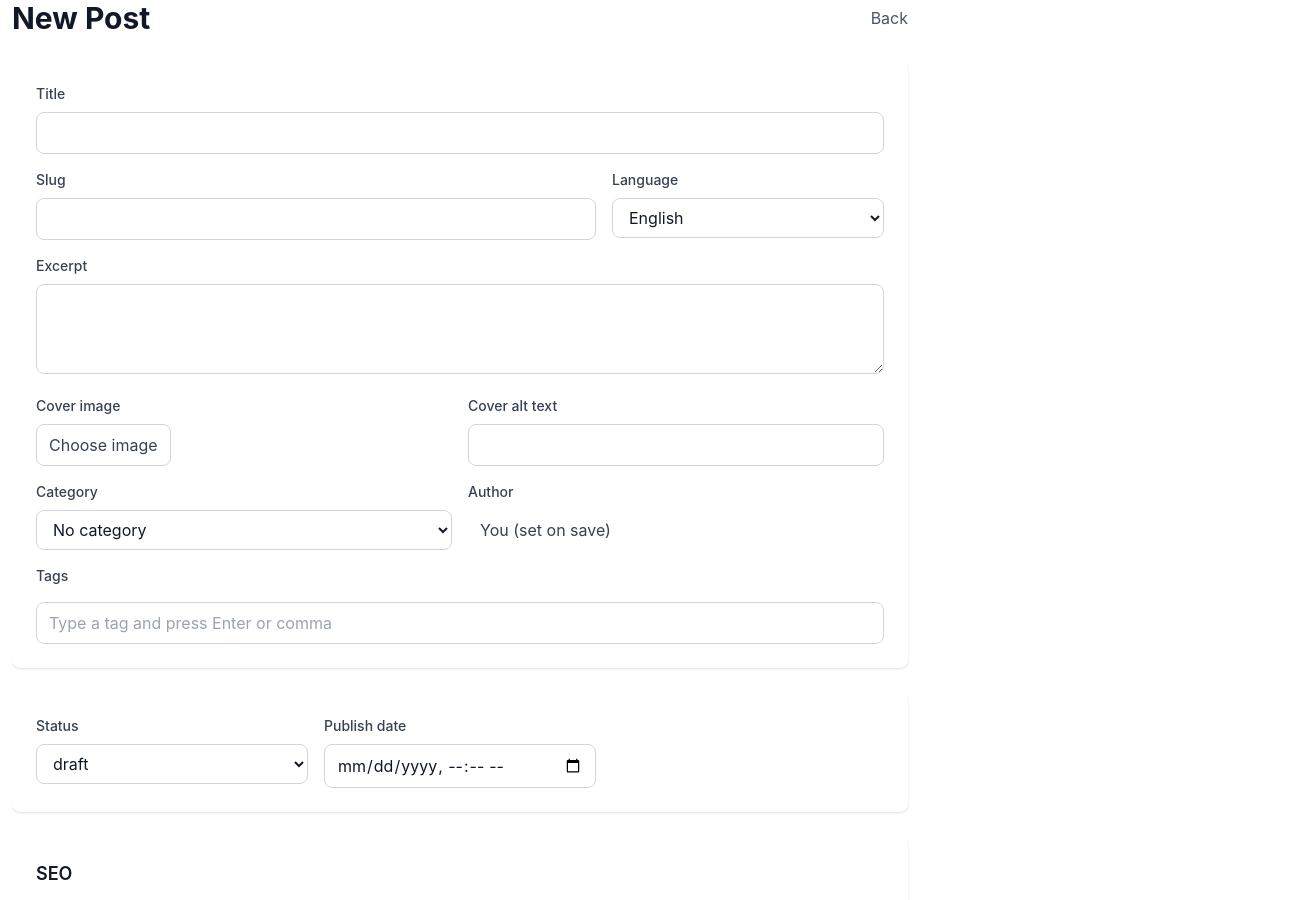
Test case: PostForm › shows server errors such as a slug conflict
The image size is (1292, 900).
Type "T" into the field labelled "Title". click: (460, 133)
box: [36,112,884,154]
(page scrolled)
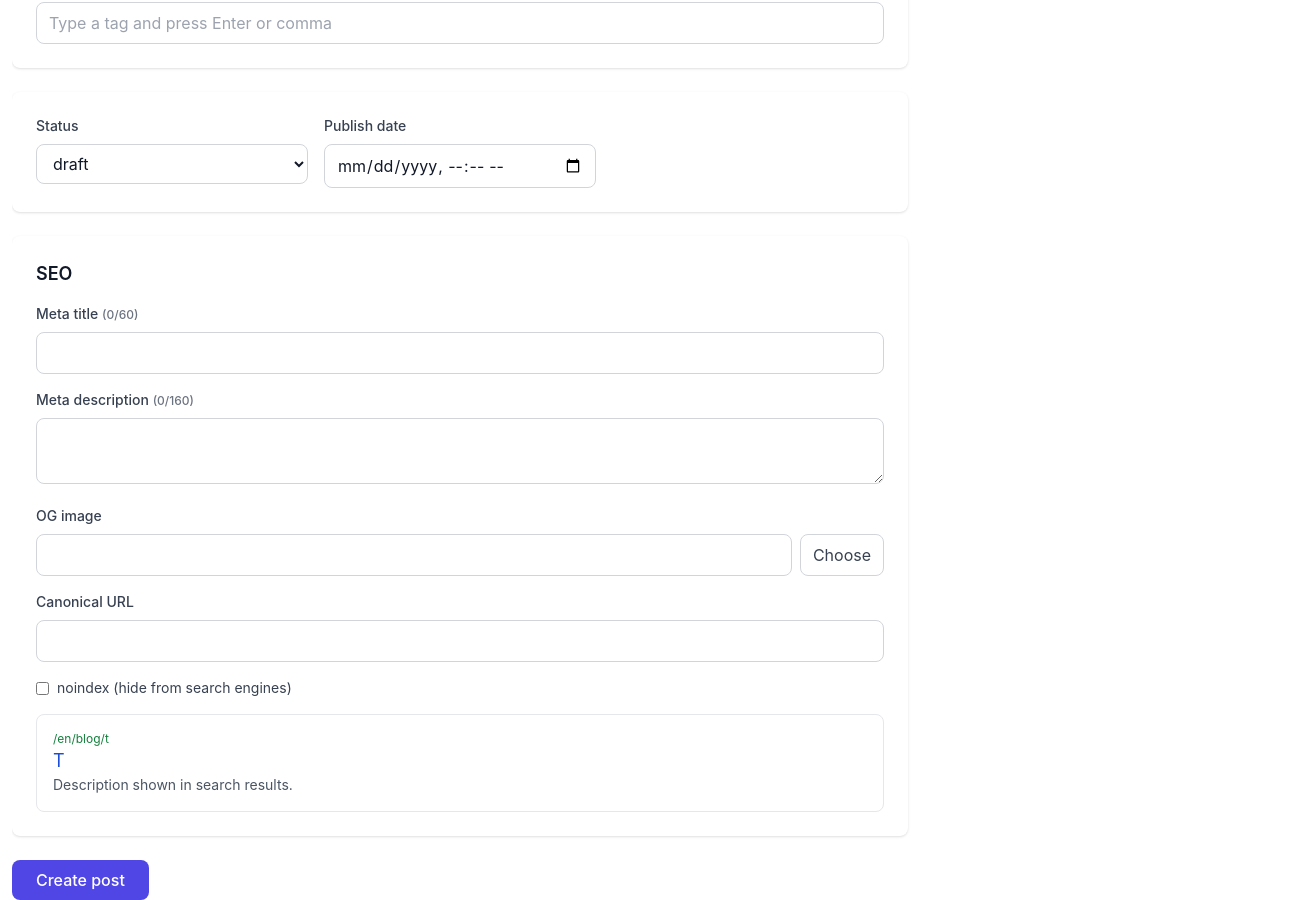
Click the button "Create post". click: (80, 880)
box: [12,860,149,899]
(page scrolled)
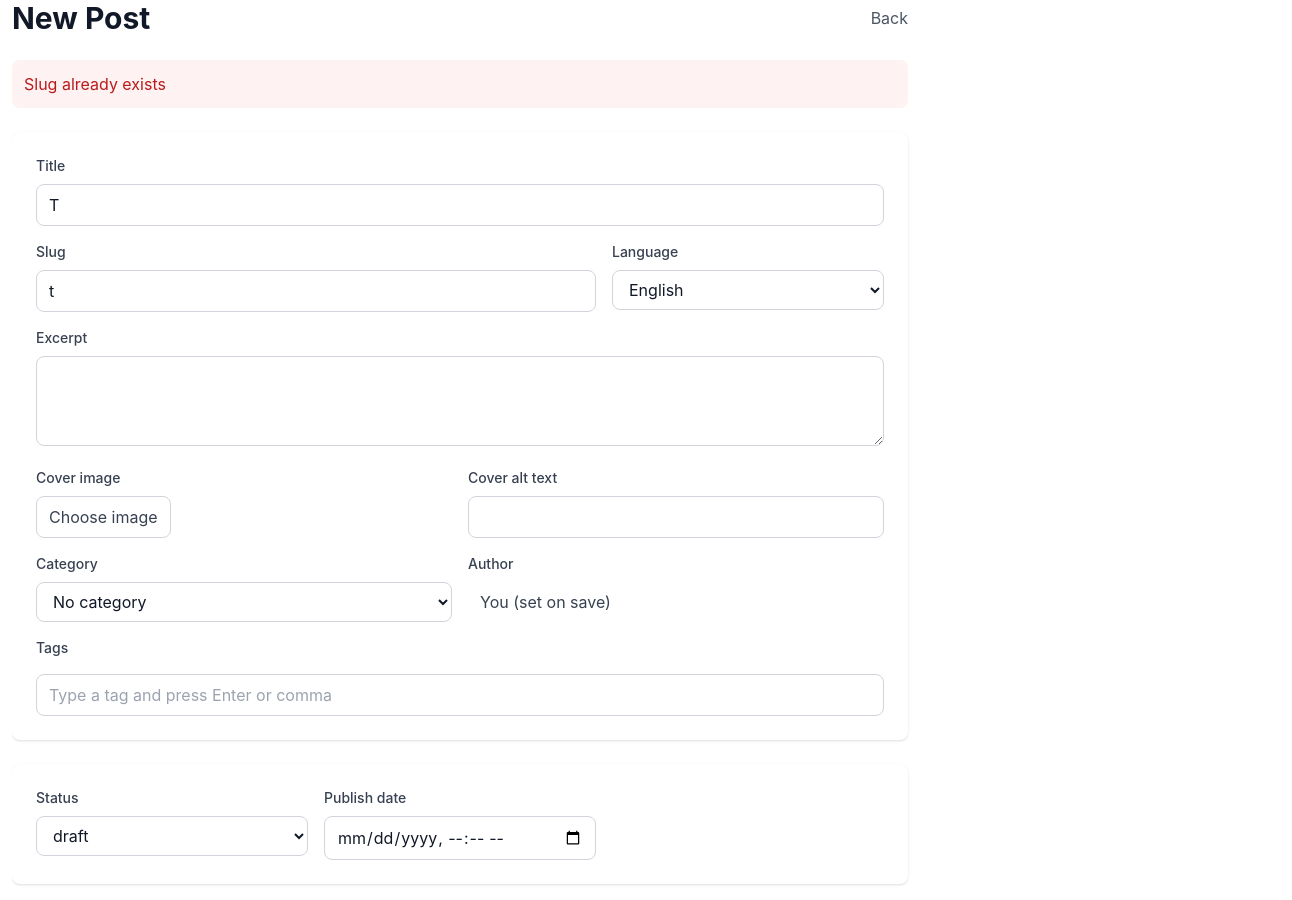
Expected: the message reads "Slug already exists", [24,74,166,94]
